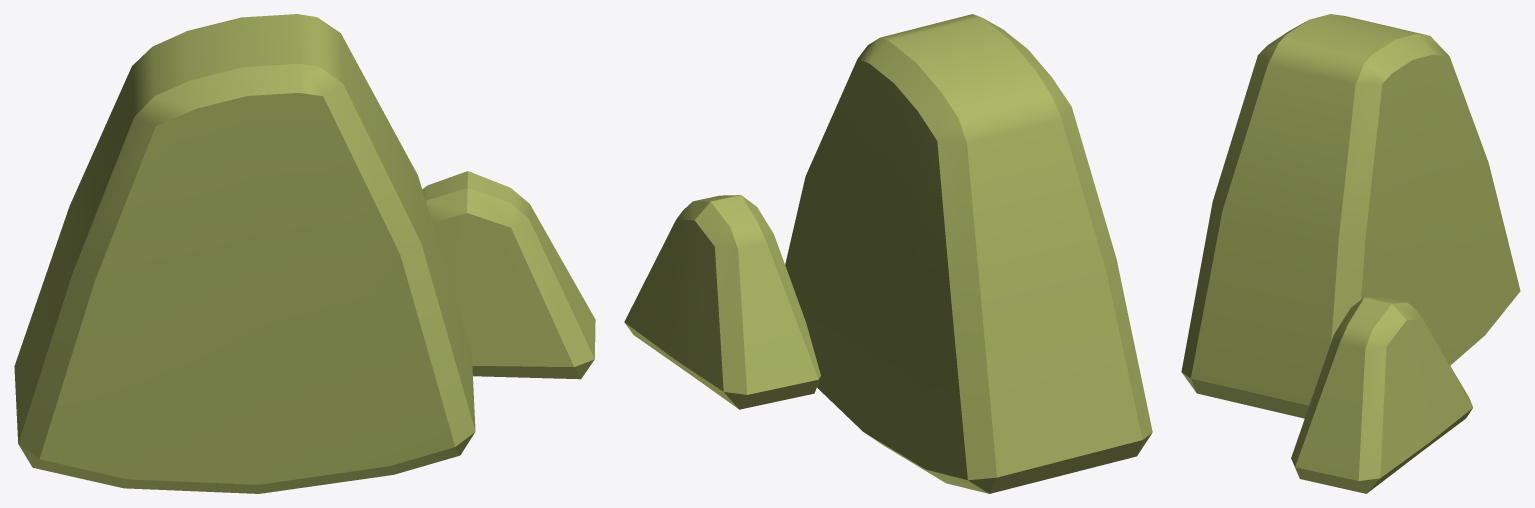
Rendered from PlantTwoFBX.fbx.
3 views of the same model, side by side, from view 1: azimuth 30°, elevation 25°; view 2: azimuth 150°, elevation 25°; view 3: azimuth 270°, elevation 25° (orthographic). The views are drawn at different scales.
Visible parts, largest first — view 1: pCube39, pCube40; view 2: pCube39, pCube40; view 3: pCube39, pCube40.
Boxes of the visible parts, x1,y1,x2,y2 form: pCube39: (14,14,475,493); pCube40: (422,171,595,379); pCube39: (785,14,1152,493); pCube40: (624,195,820,409); pCube39: (1181,14,1520,418); pCube40: (1291,297,1472,493).
Size of the model in its own units: 1.96 by 1.37 by 1.22.
